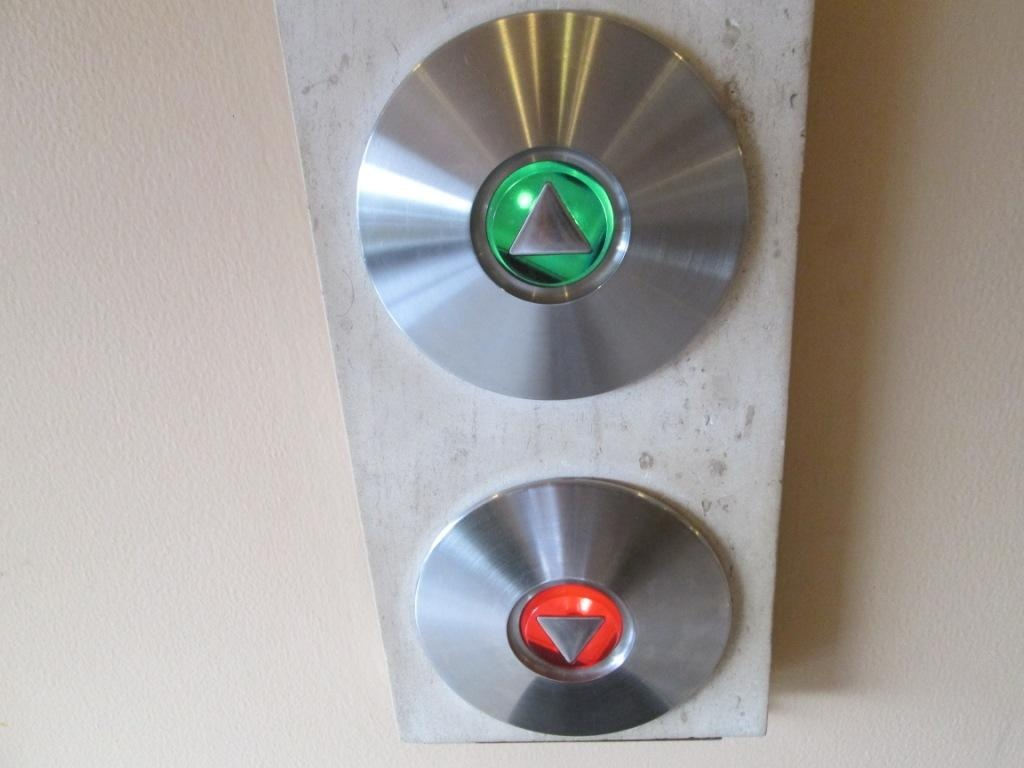down: (411, 470, 747, 741)
up: (352, 6, 757, 405)
